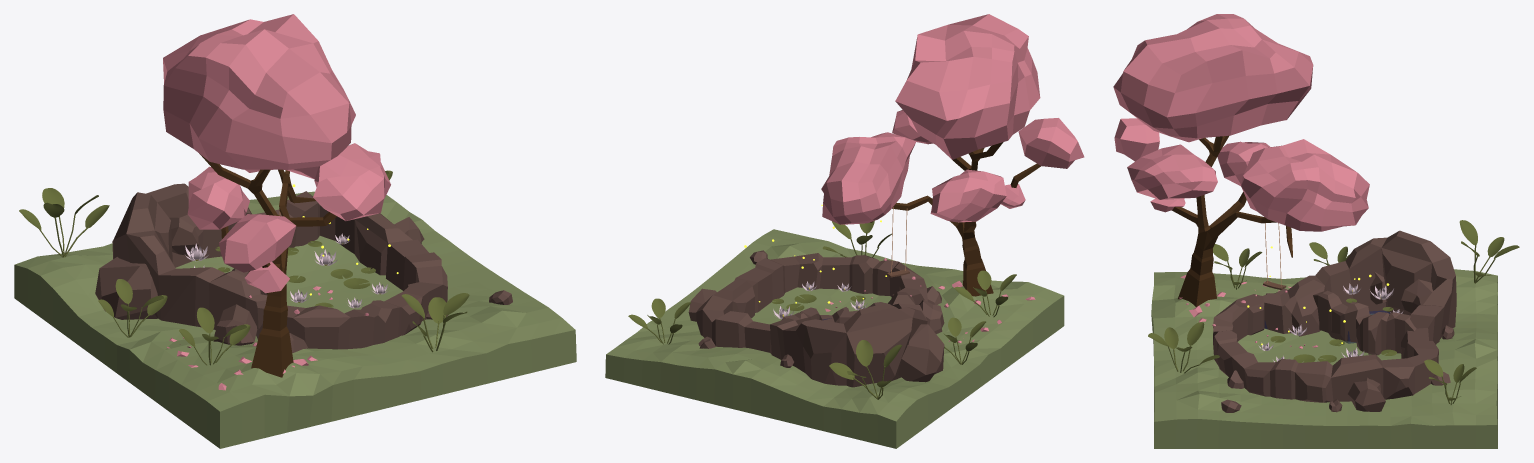
The picture shows the model from 3 angles, left to right: view 1: azimuth 30°, elevation 25°; view 2: azimuth 150°, elevation 25°; view 3: azimuth 270°, elevation 25°; orthographic projection. The views are drawn at different scales.
Parts seen in each view (by area): view 1: ground_1, tree tops_4, base rocks_78, rocks 2_79, Vert.003_73, Vert.002_34, Vert.004_36, Vert_32; view 2: ground_1, tree tops_4, base rocks_78, rocks 2_79, Vert.003_73, Vert.001_33, Vert.004_36, Vert_32, Vert.002_34; view 3: tree tops_4, ground_1, base rocks_78, rocks 2_79, Vert.002_34, Vert.003_73, Vert.001_33, Vert.004_36.
Part boxes in pixels (x1,y1,x2,y2): ground_1: [14, 191, 576, 448]; tree tops_4: [163, 14, 390, 377]; base rocks_78: [112, 183, 447, 349]; rocks 2_79: [95, 214, 512, 352]; Vert.003_73: [19, 188, 109, 257]; Vert.002_34: [401, 293, 469, 352]; Vert.004_36: [179, 307, 250, 365]; Vert_32: [98, 279, 167, 337]; ground_1: [605, 229, 1064, 448]; tree tops_4: [821, 14, 1084, 296]; base rocks_78: [696, 253, 927, 387]; rocks 2_79: [688, 250, 944, 382]; Vert.003_73: [829, 340, 902, 399]; Vert.001_33: [628, 298, 691, 344]; Vert.004_36: [954, 270, 1016, 317]; Vert_32: [939, 317, 985, 364]; Vert.002_34: [822, 220, 891, 257]; tree tops_4: [1113, 14, 1369, 306]; ground_1: [1151, 269, 1497, 448]; base rocks_78: [1213, 230, 1456, 402]; rocks 2_79: [1221, 271, 1454, 412]; Vert.002_34: [1148, 322, 1219, 373]; Vert.003_73: [1459, 220, 1519, 283]; Vert.001_33: [1424, 359, 1476, 404]; Vert.004_36: [1213, 244, 1262, 289].
Bounding box in the file's own units: 11.1 × 10.71 × 12.74.
